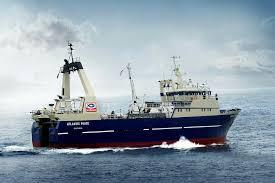Ship: (33, 44, 241, 149)
